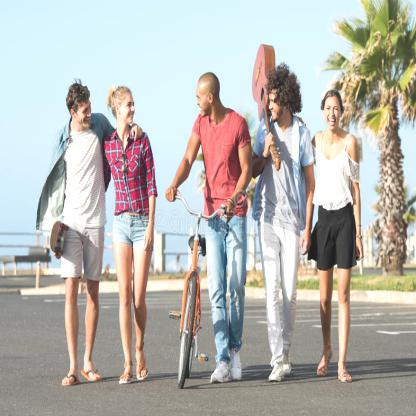person: (184, 72, 253, 385), (43, 82, 107, 388), (254, 61, 312, 383), (102, 84, 158, 386), (306, 87, 362, 380)
